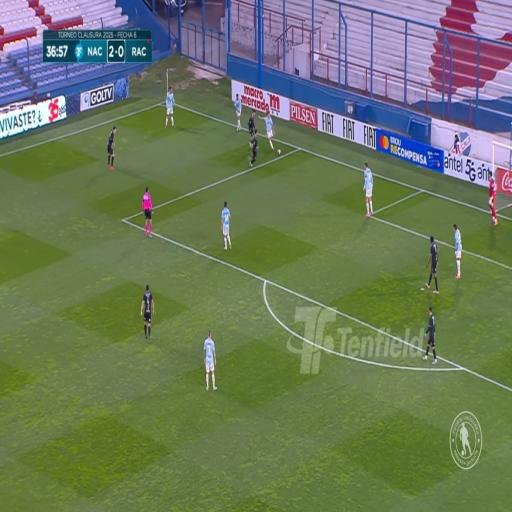Ball: (278, 147, 280, 157)
Goalkeeper: (487, 171, 500, 227)
Player: (451, 219, 467, 285), (362, 156, 378, 216), (427, 237, 442, 294), (204, 323, 214, 392), (219, 199, 231, 254), (142, 282, 154, 336), (425, 304, 435, 363), (262, 107, 275, 150), (107, 124, 118, 171), (165, 86, 175, 123), (234, 93, 244, 130), (250, 129, 259, 170), (248, 108, 256, 143)
Referee: (141, 181, 153, 244)
